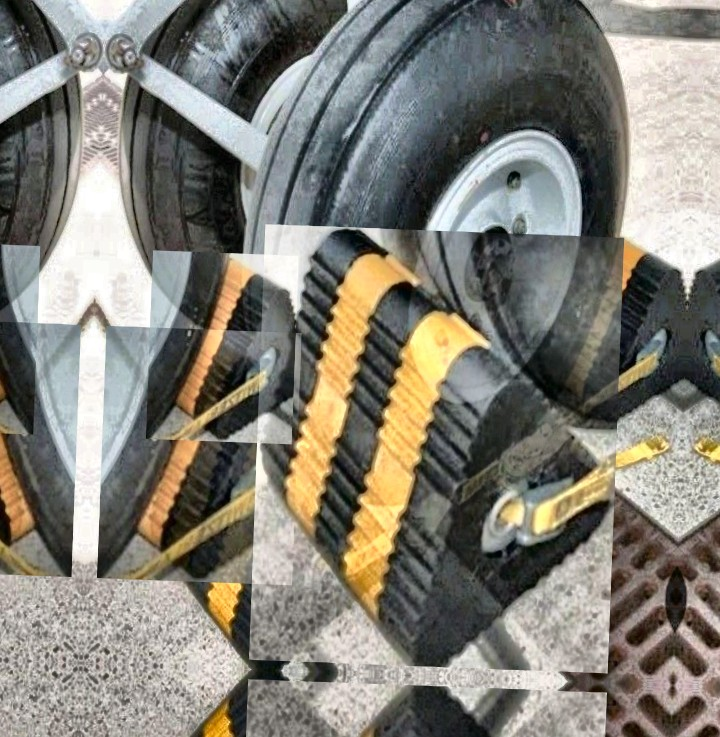chock: (249, 224, 624, 673), (141, 362, 403, 675), (97, 326, 302, 585), (534, 230, 690, 428), (146, 250, 299, 444), (0, 317, 80, 577)
wheel: (242, 0, 640, 501), (120, 0, 348, 339)
